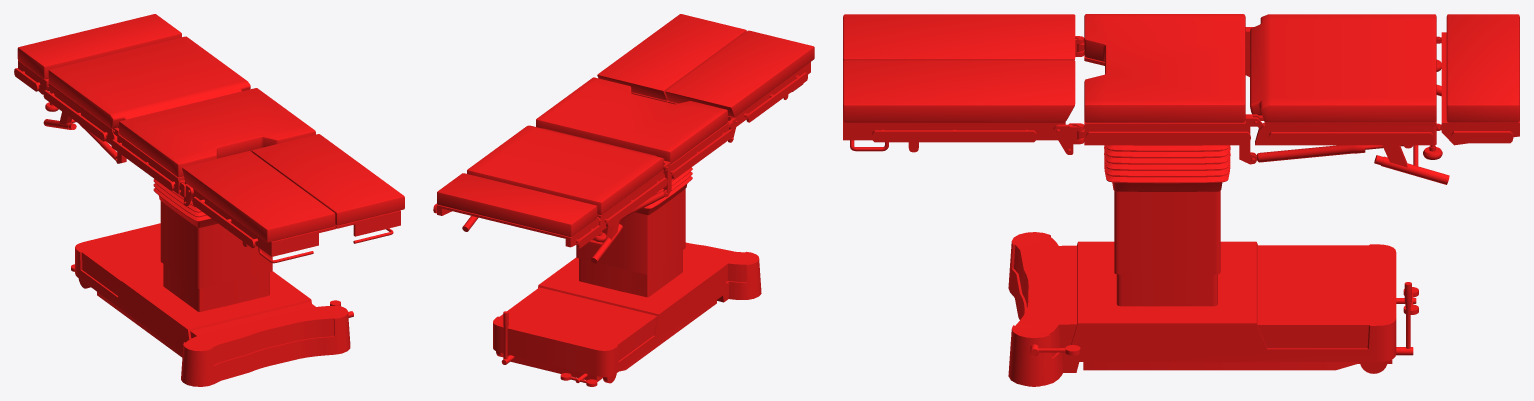
File: SurgeryTableResize.FBX
3 views of the same model, side by side, from view 1: azimuth 30°, elevation 25°; view 2: azimuth 150°, elevation 25°; view 3: azimuth 270°, elevation 25° (orthographic). The views are drawn at different scales.
Visible parts, largest first — view 1: Base003, Seg_011, Seg_010, Leg_R_004, Leg_L_004, Seg_012, Rubber003; view 2: Base003, Seg_011, Seg_010, Leg_R_004, Seg_012, Leg_L_004, Rubber003; view 3: Base003, Seg_011, Seg_010, Leg_L_004, Leg_R_004, Seg_012, Rubber003, Porsh_007, Leg_L003.
Boxes of the visible parts, left/top/right/bottom form: Base003: left=75, top=201, right=350, bottom=386; Seg_011: left=43, top=36, right=250, bottom=144; Seg_010: left=111, top=88, right=315, bottom=194; Leg_R_004: left=182, top=151, right=335, bottom=263; Leg_L_004: left=252, top=134, right=404, bottom=243; Seg_012: left=14, top=14, right=181, bottom=94; Rubber003: left=153, top=179, right=217, bottom=227; Base003: left=493, top=189, right=761, bottom=383; Seg_011: left=462, top=125, right=667, bottom=263; Seg_010: left=536, top=77, right=733, bottom=197; Leg_R_004: left=665, top=30, right=814, bottom=126; Seg_012: left=433, top=173, right=601, bottom=248; Leg_L_004: left=597, top=14, right=746, bottom=102; Rubber003: left=635, top=167, right=692, bottom=215; Base003: left=1008, top=191, right=1396, bottom=386; Seg_011: left=1250, top=14, right=1449, bottom=184; Seg_010: left=1076, top=14, right=1259, bottom=164; Leg_L_004: left=843, top=60, right=1075, bottom=152; Leg_R_004: left=843, top=14, right=1075, bottom=62; Seg_012: left=1438, top=14, right=1519, bottom=145; Rubber003: left=1104, top=145, right=1230, bottom=191; Porsh_007: left=1255, top=145, right=1365, bottom=162; Leg_L003: left=1053, top=123, right=1084, bottom=154.
Size of the model in its own units: 814 by 930 by 2058.
